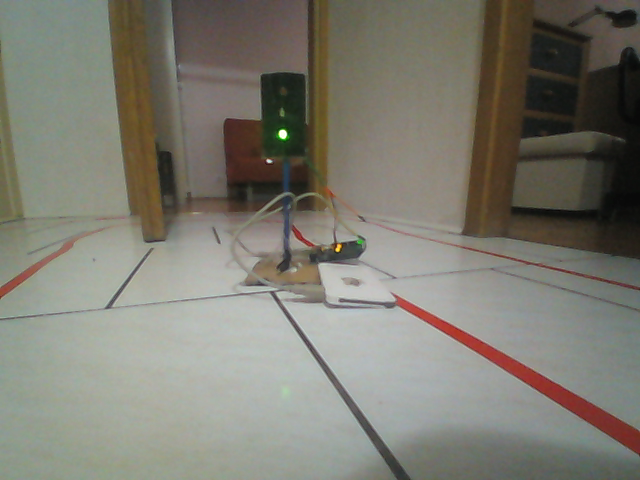green_sign: (257, 69, 309, 161)
